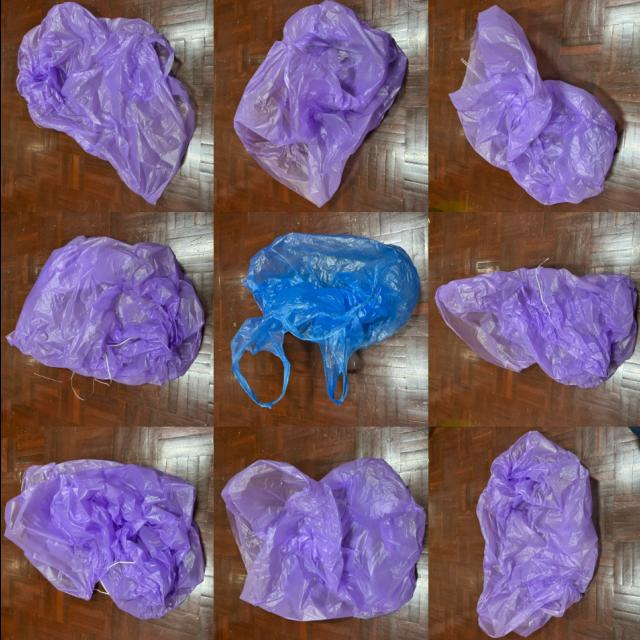plastik: (16, 2, 193, 204), (233, 1, 406, 207), (448, 6, 615, 205), (221, 458, 424, 621), (232, 233, 418, 409), (4, 460, 203, 620), (6, 236, 203, 385), (476, 431, 597, 638), (434, 266, 636, 389)
